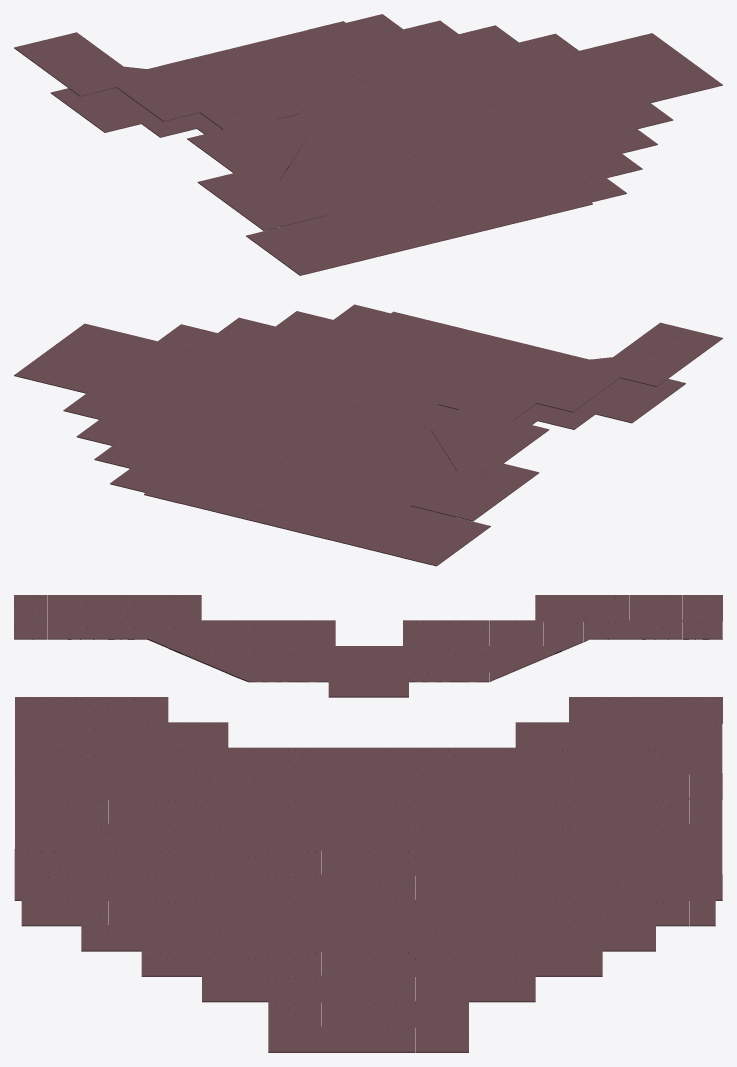
Rendered from FLlor4.fbx.
3 views of the same model, one above another, from view 1: azimuth 30°, elevation 25°; view 2: azimuth 150°, elevation 25°; view 3: azimuth 270°, elevation 25° (orthographic). The views are drawn at different scales.
Visible parts, largest first — view 1: Cube.1030; view 2: Cube.1030; view 3: Cube.1030.
Boxes of the visible parts, x1,y1,x2,y2 form: Cube.1030: (14, 14, 722, 275); Cube.1030: (14, 304, 722, 566); Cube.1030: (14, 595, 722, 1052).
Size of the model in its own units: 26752 by 2552 by 21095.
